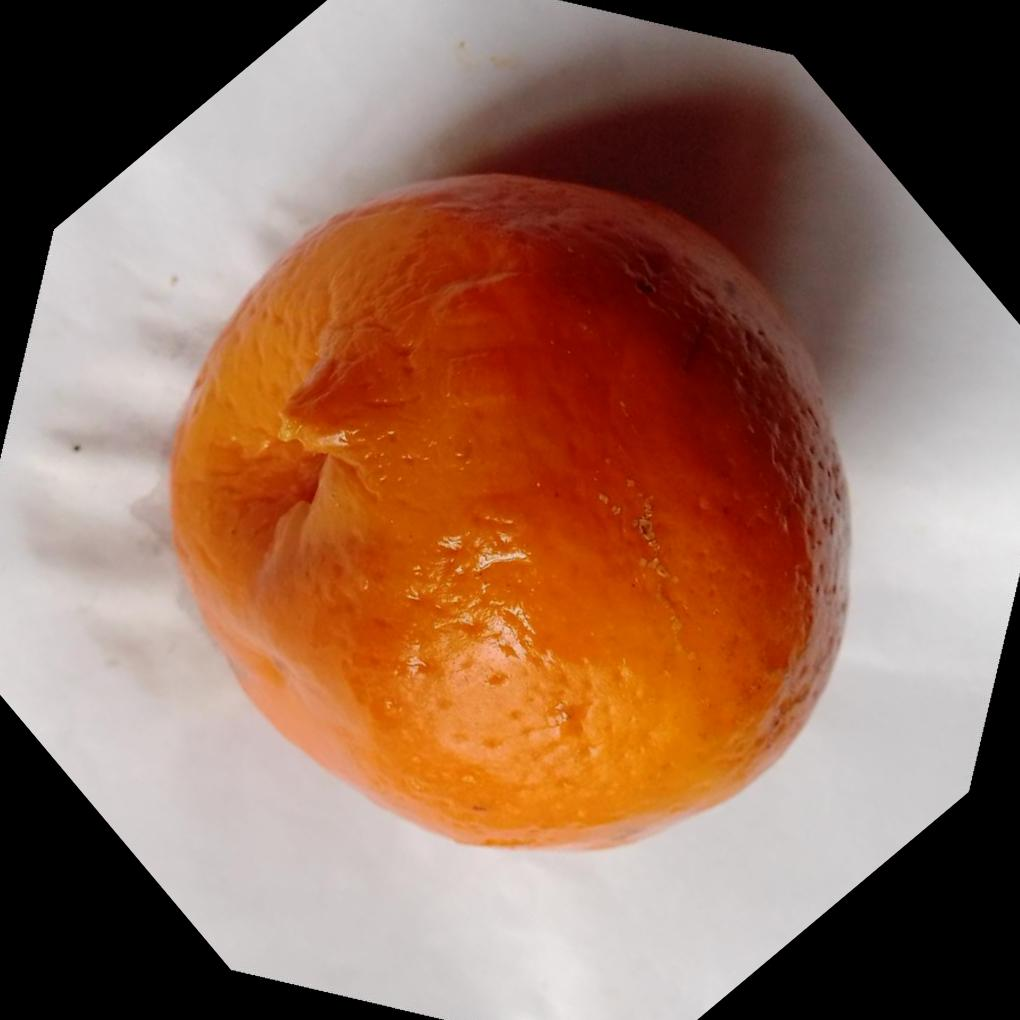FreshOrange: (162, 165, 855, 851)
